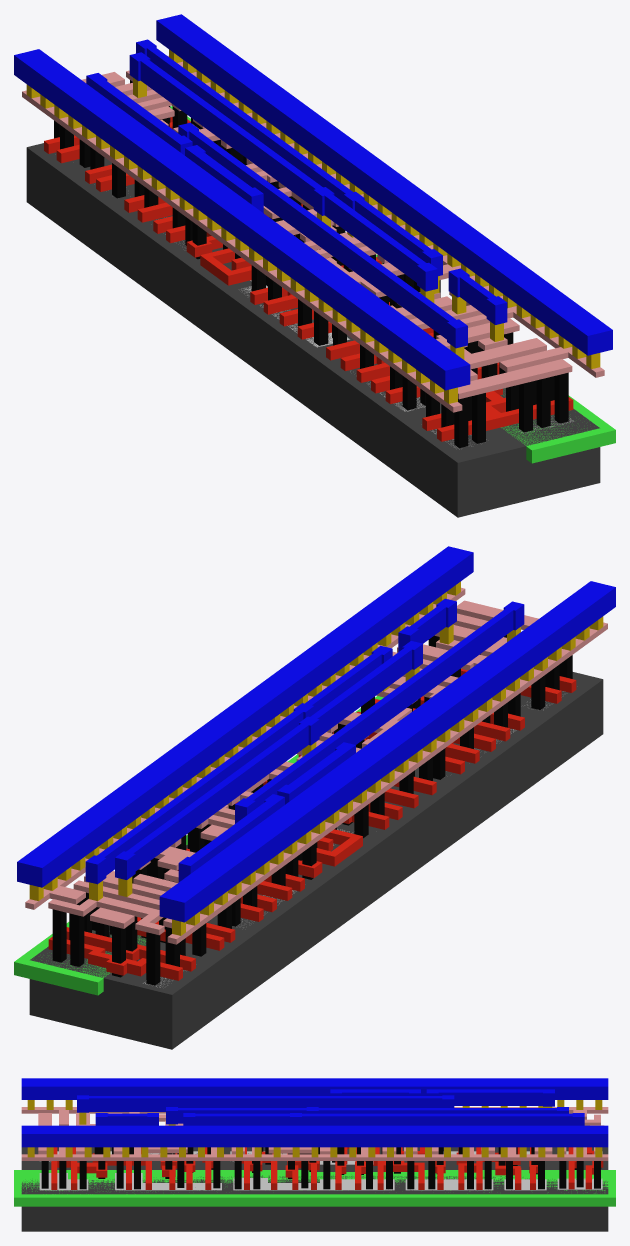
File: sky130_fd_sc_hd__sedfxbp_1.obj
3 views of the same model, one above another, from view 1: azimuth 30°, elevation 25°; view 2: azimuth 150°, elevation 25°; view 3: azimuth 270°, elevation 25° (orthographic). The views are drawn at different scales.
Visible parts, largest first — view 1: metal1, subs, li, licon, poly, mcon, nwell; view 2: metal1, subs, li, licon, poly, mcon, nwell; view 3: metal1, subs, nwell, li, poly, licon, mcon, tap, diff.
Boxes of the visible parts, bbox=[...] form: metal1: bbox=[14, 14, 612, 390]; subs: bbox=[26, 143, 600, 517]; li: bbox=[22, 55, 604, 412]; licon: bbox=[54, 80, 568, 447]; poly: bbox=[44, 117, 573, 441]; mcon: bbox=[26, 49, 600, 403]; nwell: bbox=[170, 106, 615, 463]; metal1: bbox=[17, 546, 615, 922]; subs: bbox=[29, 672, 603, 1049]; li: bbox=[25, 587, 607, 944]; licon: bbox=[52, 635, 572, 985]; poly: bbox=[48, 669, 576, 980]; mcon: bbox=[29, 581, 603, 935]; nwell: bbox=[14, 696, 383, 995]; metal1: bbox=[21, 1078, 608, 1147]; subs: bbox=[21, 1147, 608, 1231]; nwell: bbox=[14, 1170, 615, 1206]; li: bbox=[21, 1107, 608, 1160]; poly: bbox=[51, 1147, 603, 1189]; licon: bbox=[41, 1147, 601, 1189]; mcon: bbox=[27, 1100, 602, 1157]; tap: bbox=[39, 1173, 602, 1190]; diff: bbox=[40, 1151, 602, 1164].
Bounding box in the file's own units: 3.2 × 2.74 × 14.64.
